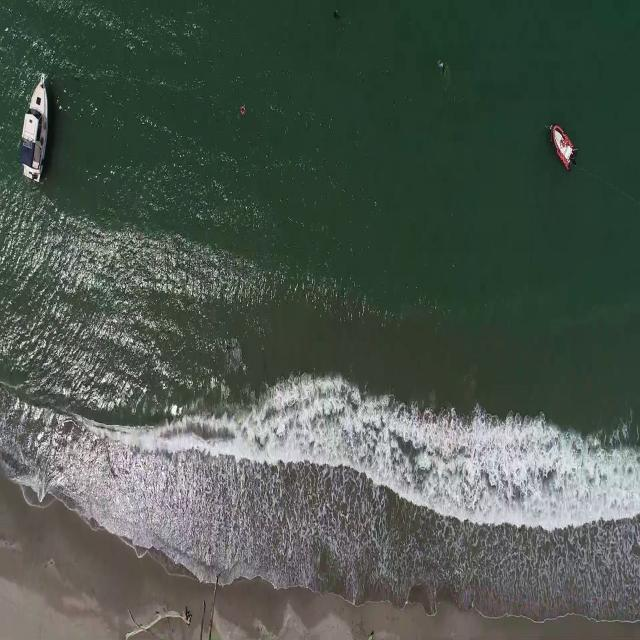boat: (19, 70, 51, 182), (549, 123, 579, 170)
life_buoy: (238, 102, 248, 116)
person: (435, 54, 449, 79), (331, 8, 343, 22)
wood: (125, 606, 193, 635), (199, 573, 220, 640)
